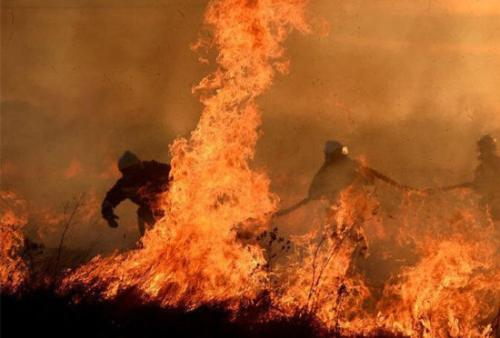fire: (100, 239, 488, 298), (169, 131, 263, 240), (205, 10, 267, 127), (322, 298, 491, 338)
smoke: (326, 5, 497, 155), (12, 10, 111, 202), (115, 8, 192, 128), (279, 57, 319, 224)
